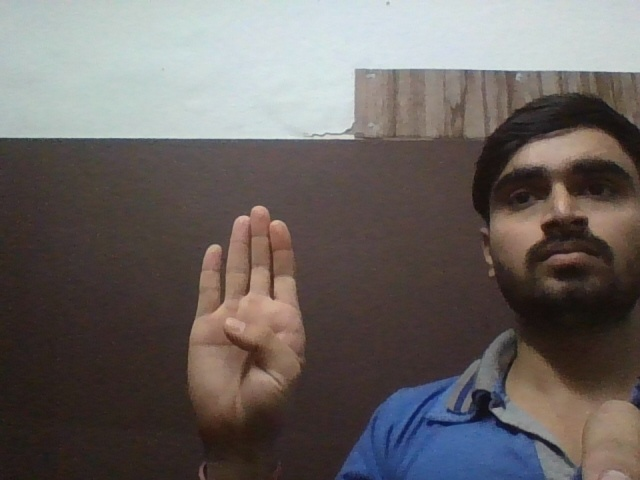B: (183, 201, 318, 453)
